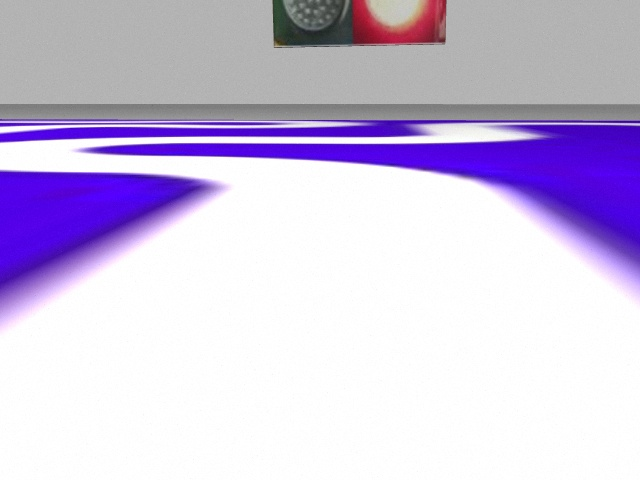red: (352, 1, 445, 45)
